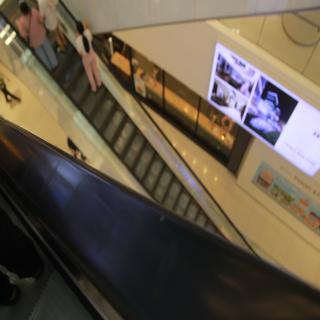person: (14, 1, 60, 67), (72, 16, 105, 88)
